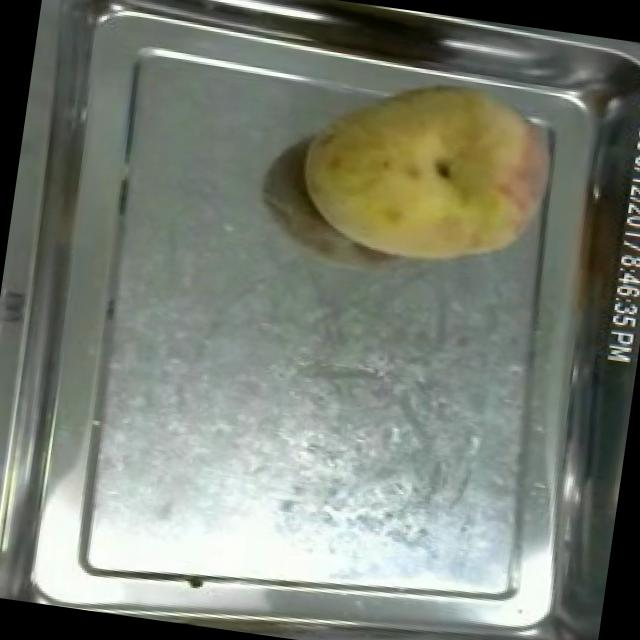Fruit: (282, 40, 574, 289)
